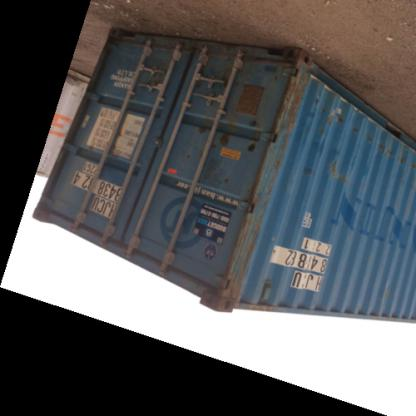Damage: (323, 102, 415, 174), (231, 195, 261, 306), (268, 74, 312, 143), (252, 136, 288, 206), (203, 275, 239, 314), (323, 157, 351, 185), (294, 165, 318, 181), (244, 137, 260, 158), (214, 134, 234, 150), (198, 120, 212, 140), (252, 114, 260, 134)
